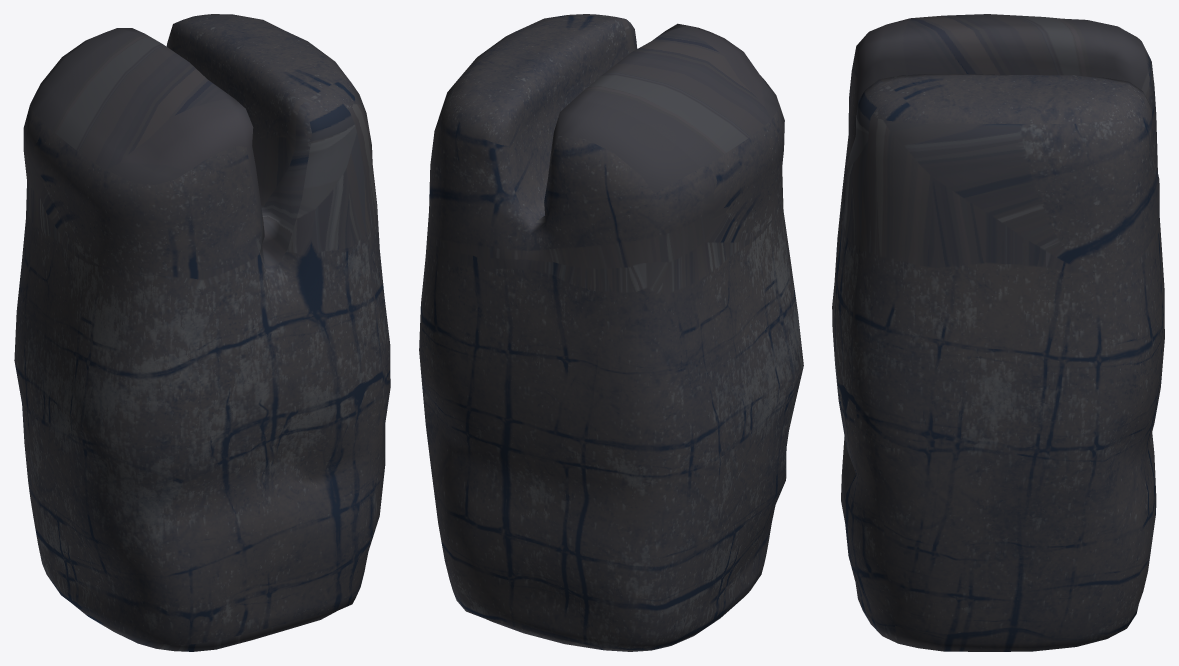
Rendered from obstacle_moyen1.obj.
3 renders of one model, left to right at view 1: azimuth 30°, elevation 25°; view 2: azimuth 150°, elevation 25°; view 3: azimuth 270°, elevation 25°, orthographic. The views are drawn at different scales.
Visible parts, largest first — view 1: obstacle_moyen1:Group20693; view 2: obstacle_moyen1:Group20693; view 3: obstacle_moyen1:Group20693.
Boxes of the visible parts, x1=… form: obstacle_moyen1:Group20693: x1=14, y1=14, x2=390, y2=651; obstacle_moyen1:Group20693: x1=419, y1=14, x2=803, y2=651; obstacle_moyen1:Group20693: x1=832, y1=14, x2=1164, y2=651.
Size of the model in its own units: 1086 by 1855 by 1003.
Materials: 1 (1 with a texture image).
